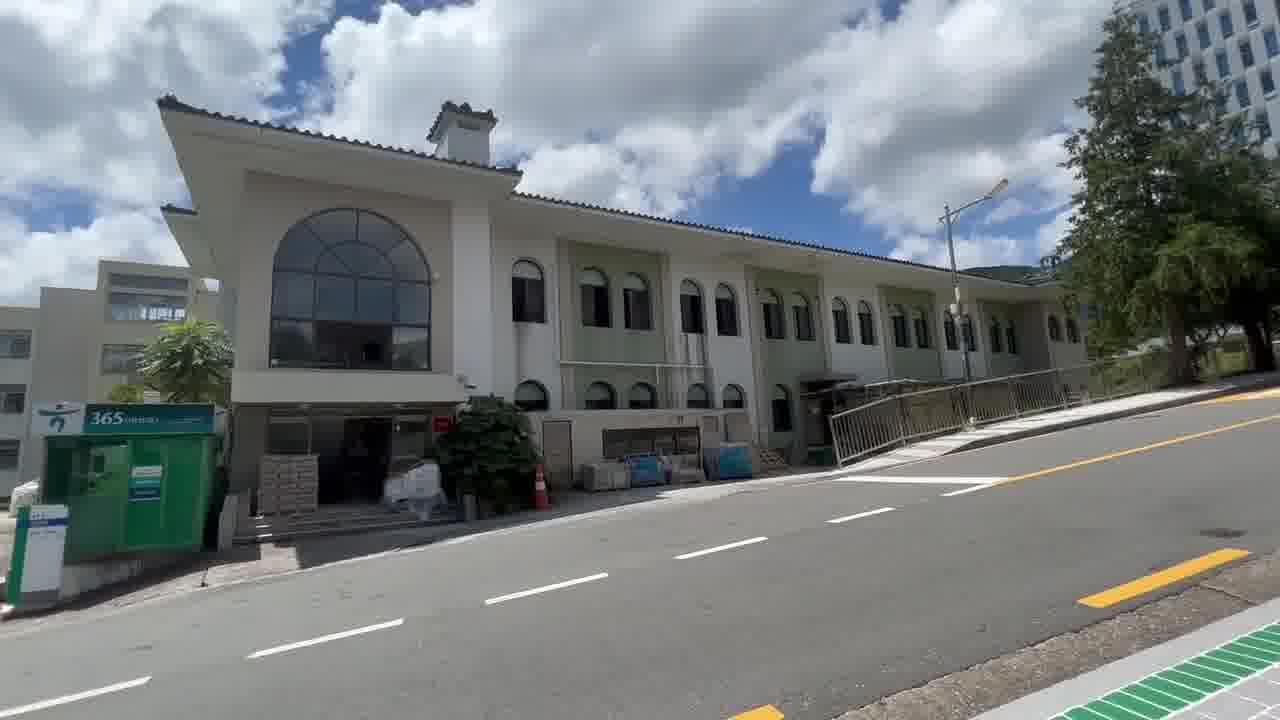building: (239, 126, 860, 450)
